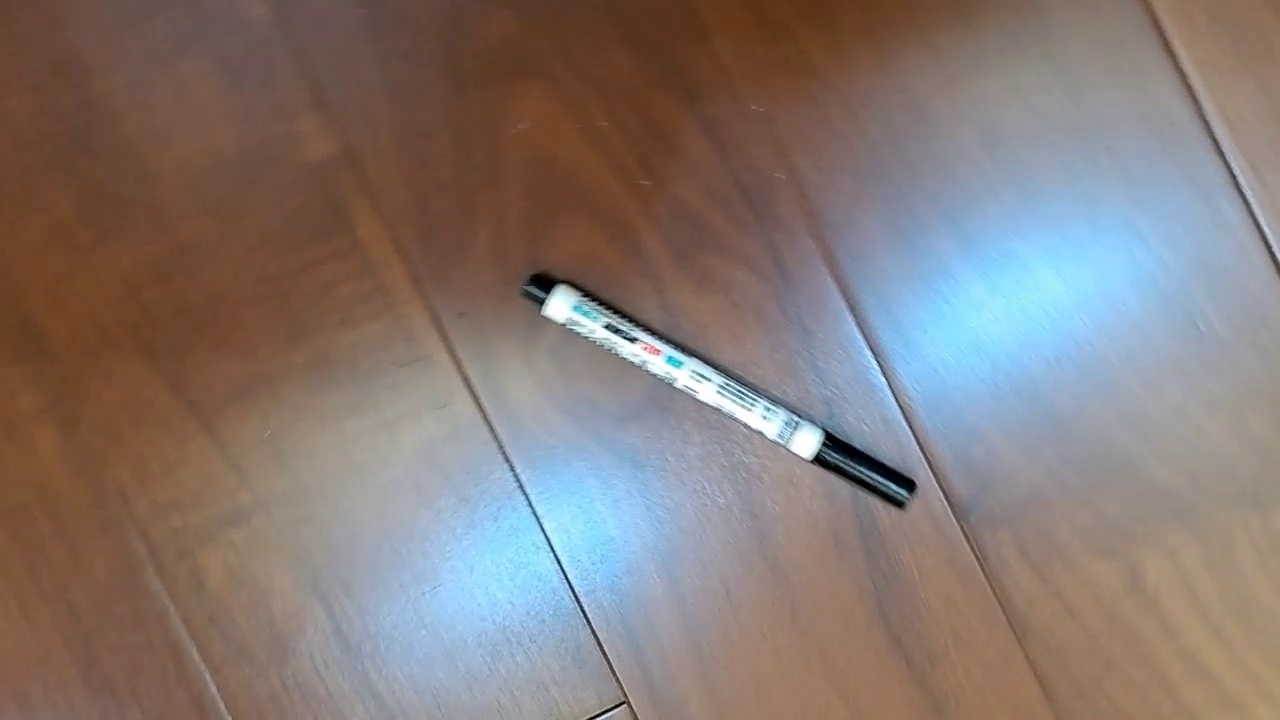pen: (518, 270, 918, 512)
